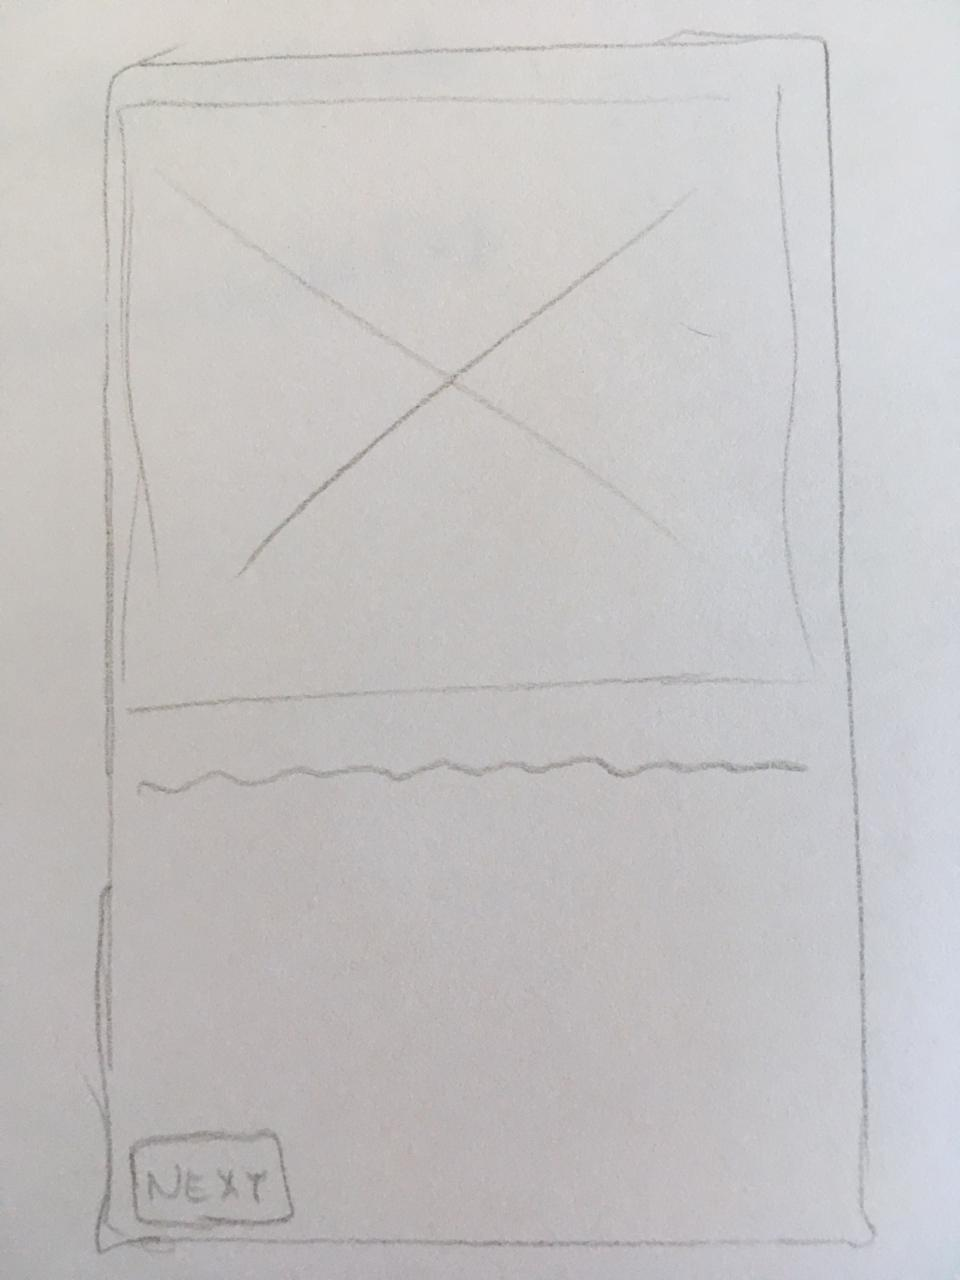Button: (129, 1128, 293, 1229)
Image: (122, 86, 814, 715)
Label: (135, 754, 808, 797)
Screen: (92, 36, 877, 1255)
